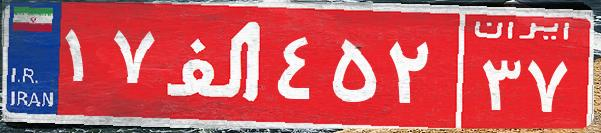1: (57, 26, 110, 107)
2: (385, 28, 445, 110)
3: (475, 38, 525, 113)
4: (273, 28, 330, 110)
5: (330, 28, 385, 110)
7: (110, 28, 158, 105), (525, 38, 570, 115)
الف: (158, 15, 273, 115)
